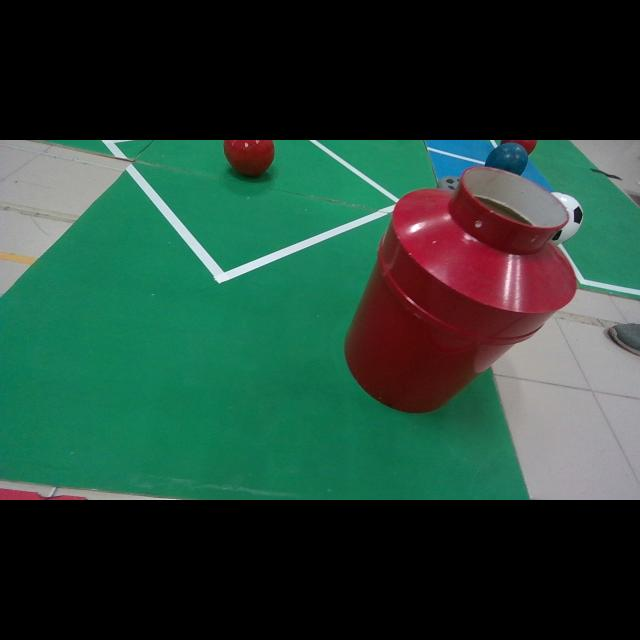B: (486, 142, 528, 175)
R: (224, 140, 275, 176), (500, 140, 538, 154)
